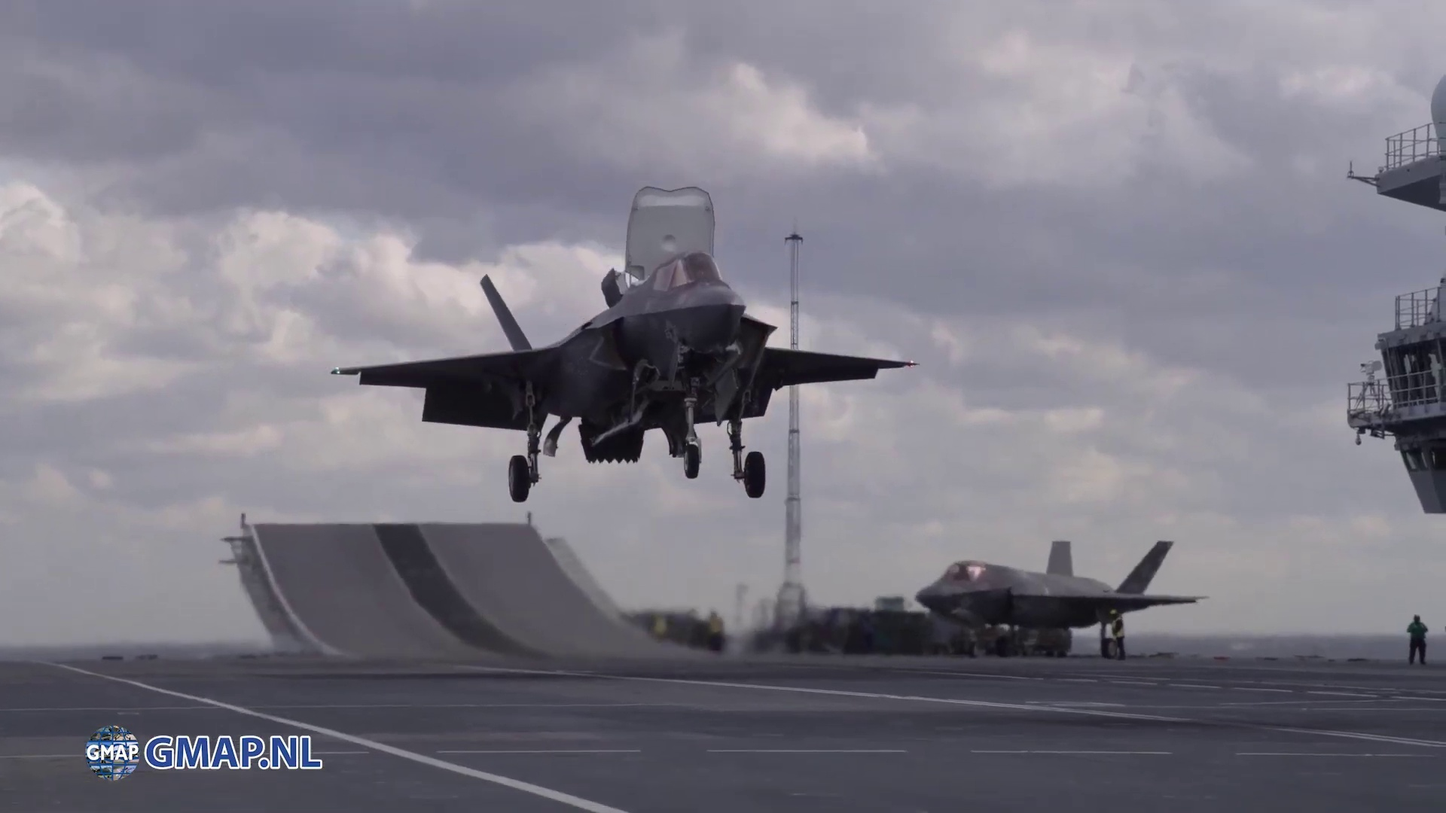F35: (328, 187, 920, 503), (915, 540, 1211, 662)
